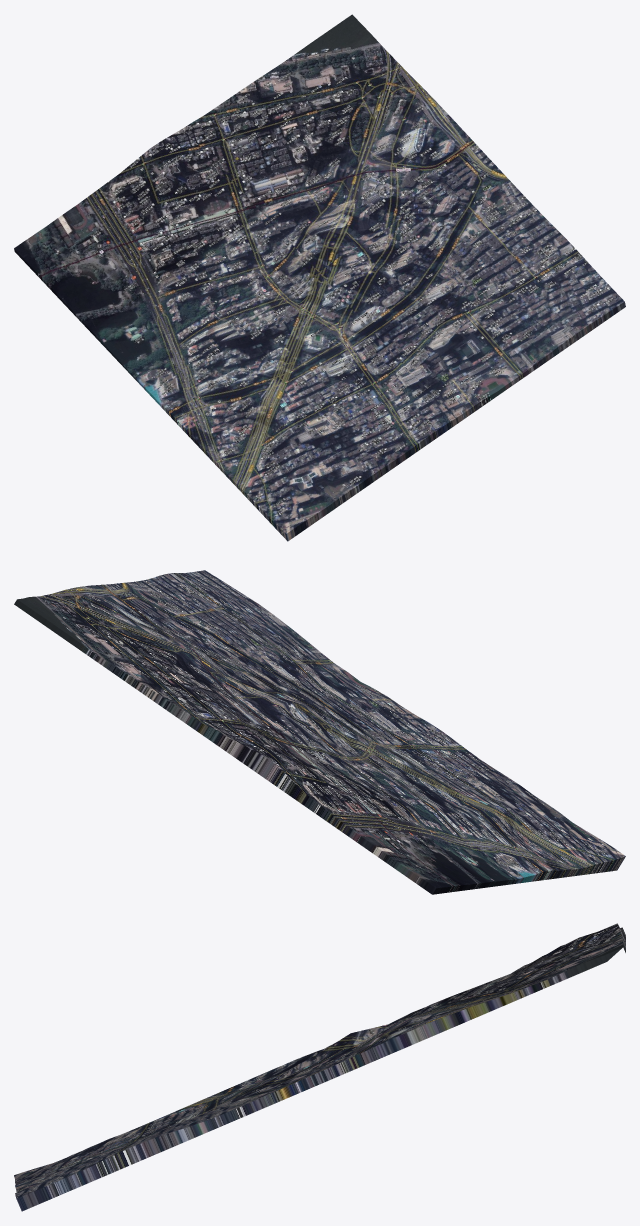
3 renders of one model, top to bottom at view 1: azimuth 30°, elevation 25°; view 2: azimuth 150°, elevation 25°; view 3: azimuth 270°, elevation 25°, orthographic. The views are drawn at different scales.
Parts seen in each view (by area): view 1: 1_5_7; view 2: 1_5_7; view 3: 1_5_7.
Part boxes in pixels (box(x1,y1,x2,y2)): 1_5_7: box(14, 14, 625, 541); 1_5_7: box(14, 570, 625, 894); 1_5_7: box(14, 923, 625, 1211).
Bounding box in the file's own units: 1229 × 895 × 1133.
Materials: 1 (1 with a texture image).
